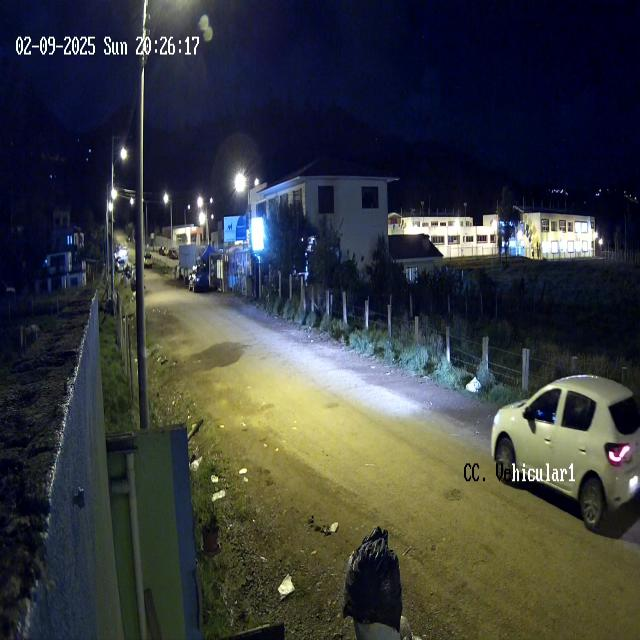SUV: (491, 373, 640, 528)
